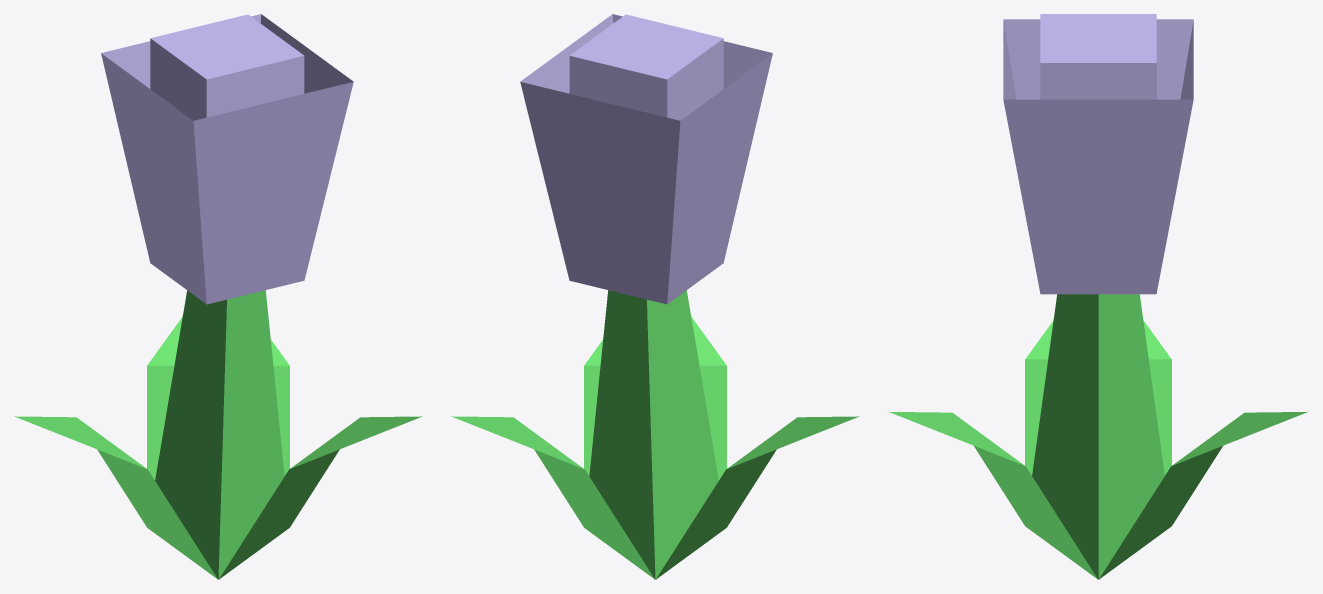
File: n_flower_purpleA.glb
The picture shows the model from 3 angles, left to right: view 1: azimuth 30°, elevation 25°; view 2: azimuth 150°, elevation 25°; view 3: azimuth 270°, elevation 25°; orthographic projection. The views are drawn at different scales.
Parts seen in each view (by area): view 1: flower_purpleA; view 2: flower_purpleA; view 3: flower_purpleA.
Part boxes in pixels (x1,y1,x2,y2): flower_purpleA: (14, 14, 422, 579); flower_purpleA: (451, 14, 859, 579); flower_purpleA: (888, 14, 1308, 579).
Size of the model in its own units: 0.2952 by 0.45 by 0.336.
